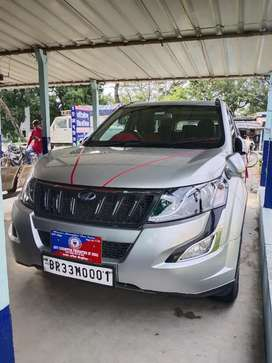BR33M0001: (43, 255, 112, 285)
